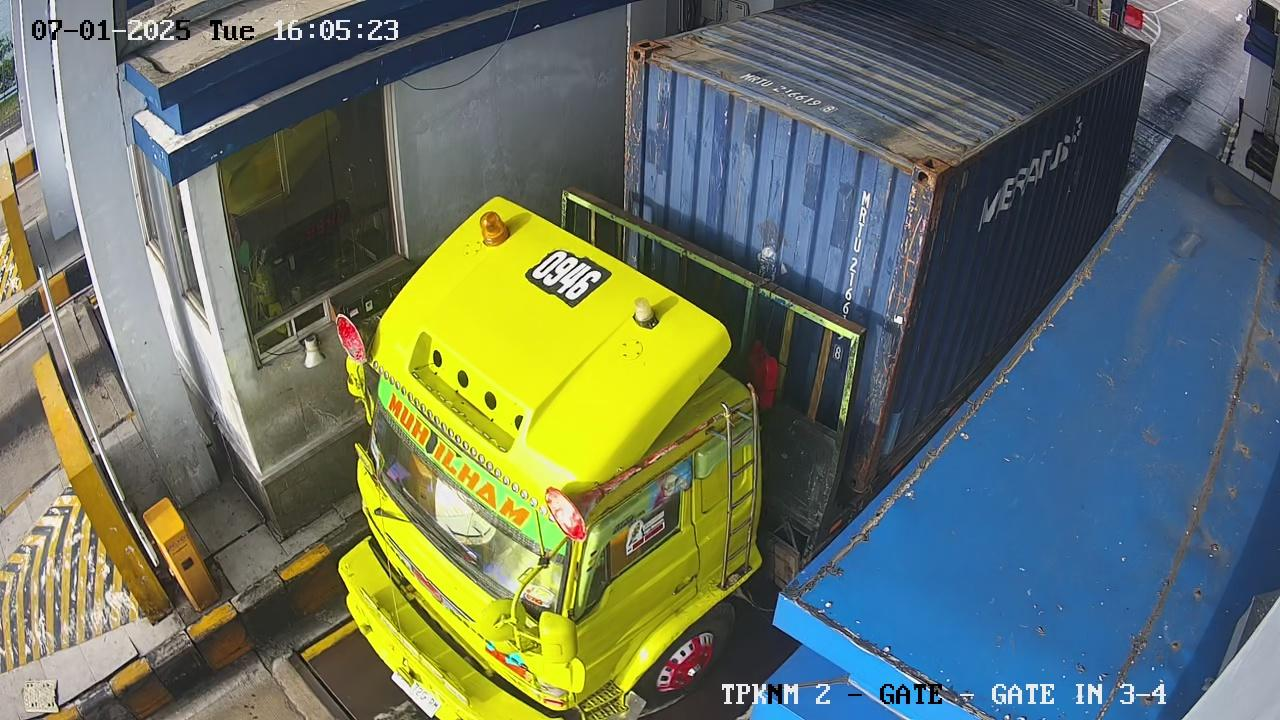Container_ID: (729, 59, 846, 134)
Container_ID_Vertikal: (826, 181, 873, 374)
